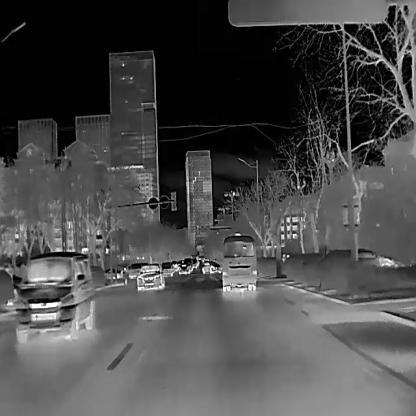car: (13, 250, 94, 343), (219, 232, 258, 292), (358, 245, 404, 267), (135, 262, 164, 290), (125, 262, 143, 278), (201, 259, 220, 274), (162, 261, 172, 276), (178, 262, 189, 274)
